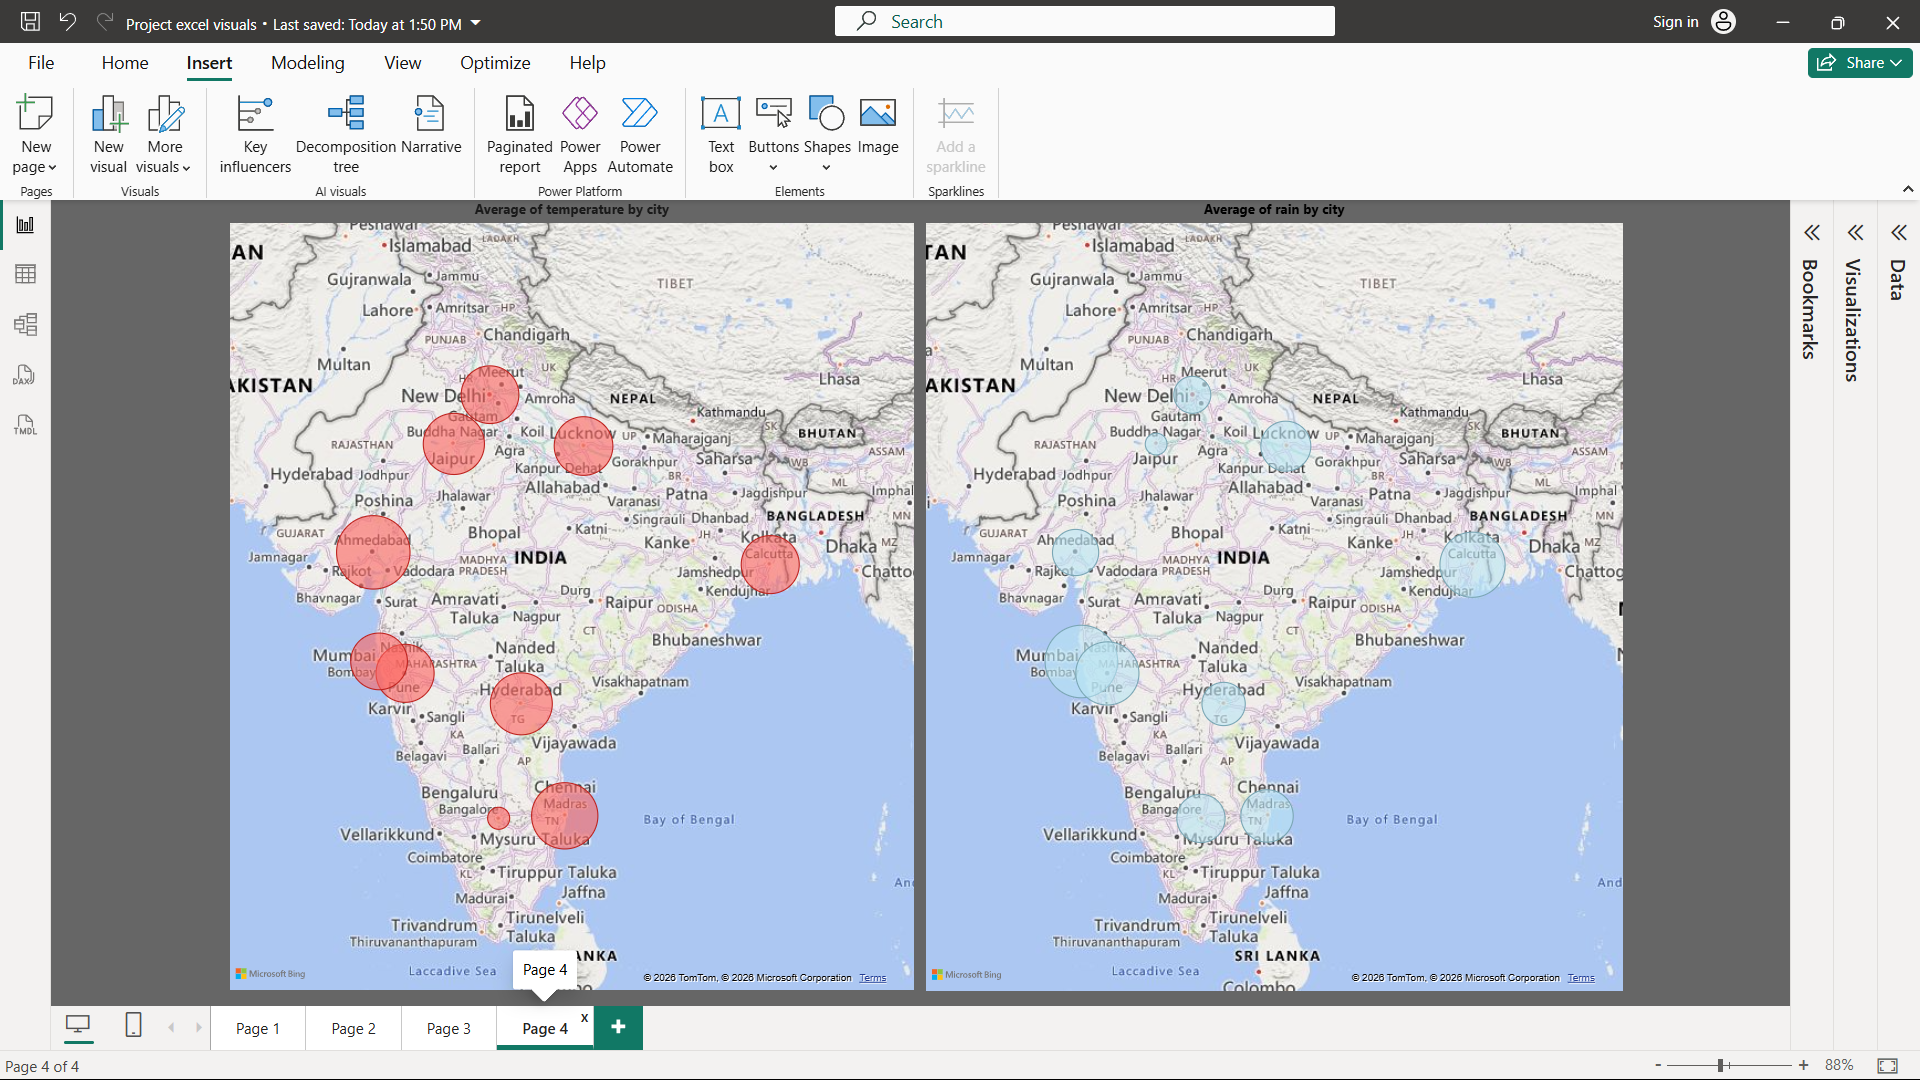

The page's visual inventory and layout, read from the dashboard file:
{"tool":"powerbi","page":{"name":"Page 4","canvas":[1280,720],"ordinal":3},"visuals":[{"type":"map","fields":{"Category":["india_2000_2024_daily_weather_csv.city"],"Size":["Avg(india_2000_2024_daily_weather_csv.temperature_2m_max)"]},"box":[10.5,0,629.1,719.8],"z":0},{"type":"map","fields":{"Category":["india_2000_2024_daily_weather_csv.city"],"Size":["Avg(india_2000_2024_daily_weather_csv.rain_sum)"]},"box":[640,0,640,720],"z":1000}]}

Visuals, with their boxes on the page's 1280x720 design canvas (x1, y1, x2, y2). These are canvas units, not pixel positions in the 1920x1080 screenshot, which may show the page scaled, cropped or inside an application window:
map - india_2000_2024_daily_weather_csv.city x Avg(india_2000_2024_daily_weather_csv.temperature_2m_max): 10 0 640 720
map - india_2000_2024_daily_weather_csv.city x Avg(india_2000_2024_daily_weather_csv.rain_sum): 640 0 1280 720
